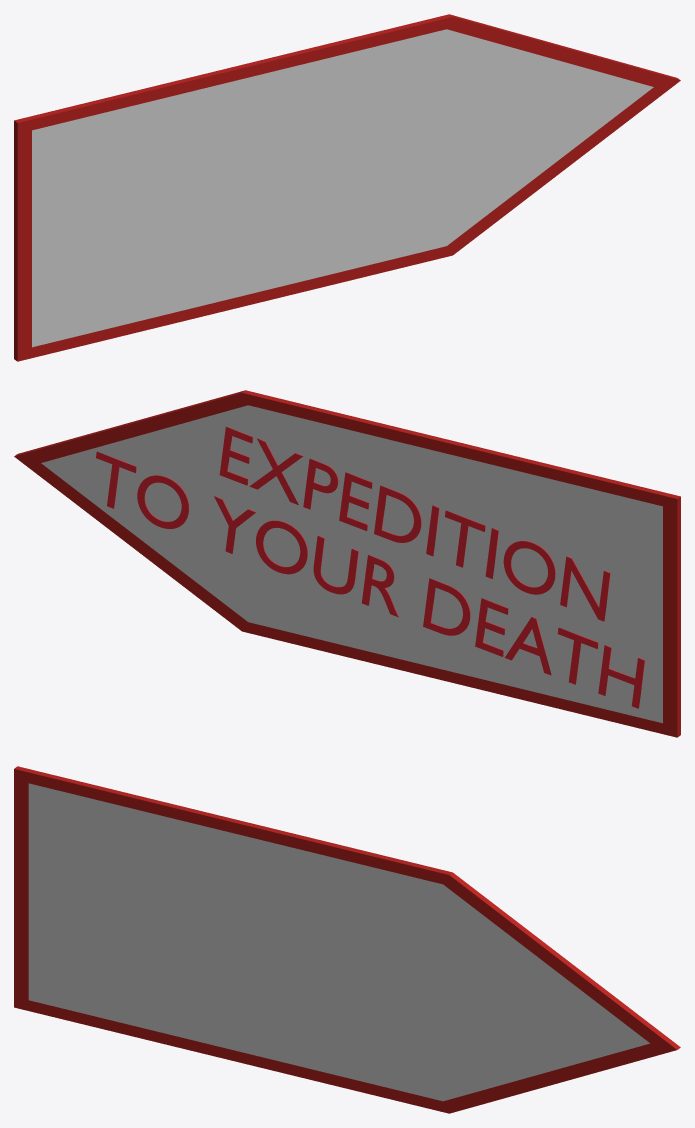
Rendered from ExpeditionPanel.fbx.
The picture shows the model from 3 angles, top to bottom: view 1: azimuth 30°, elevation 25°; view 2: azimuth 150°, elevation 25°; view 3: azimuth 330°, elevation 25°; orthographic projection.
Parts seen in each view (by area): view 1: Cube; view 2: Cube, Text; view 3: Cube.
Part boxes in pixels (bbox=[...]): Cube: bbox=[14, 14, 680, 361]; Cube: bbox=[14, 390, 680, 737]; Text: bbox=[96, 426, 644, 708]; Cube: bbox=[14, 766, 680, 1113].
Bounding box in the file's own units: 640 × 220 × 6.72.
